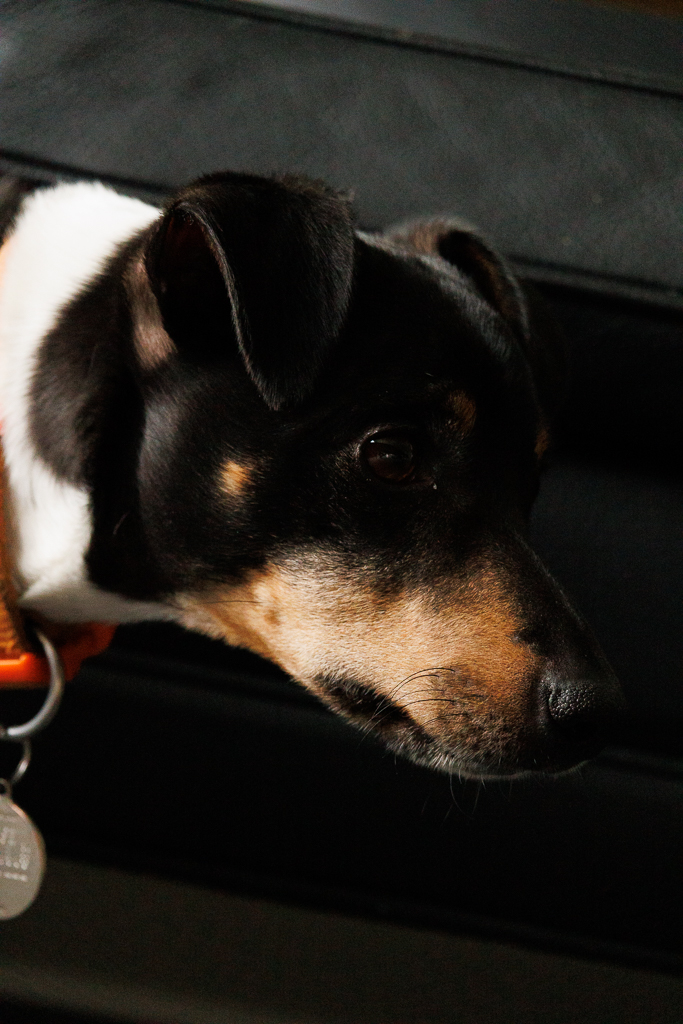Dog: (0, 121, 644, 940)
